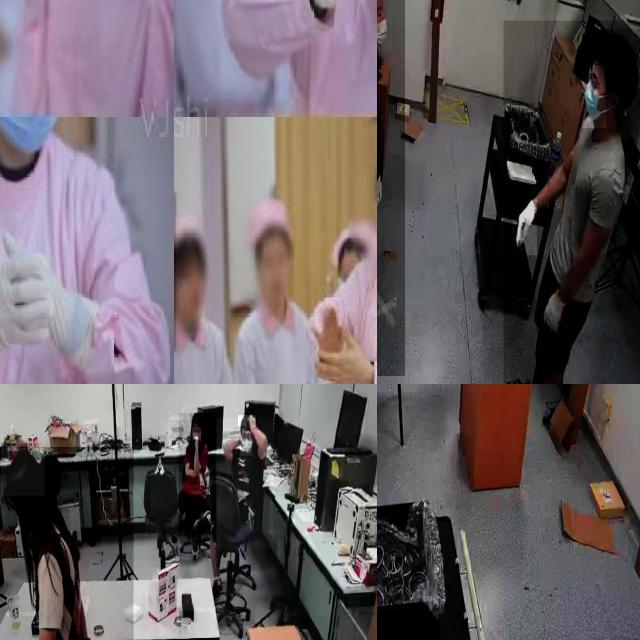face_mask: (582, 65, 606, 128), (377, 9, 392, 51), (240, 427, 252, 456)
face_nomask: (253, 236, 301, 307), (178, 262, 206, 310), (192, 427, 202, 441)
hand_glove: (0, 231, 54, 348), (513, 192, 537, 255), (542, 283, 571, 333)
hand_noglove: (314, 337, 371, 384), (307, 304, 344, 353), (246, 413, 258, 432), (193, 432, 199, 448), (198, 473, 204, 486)
head_nohelmet: (1, 448, 45, 497), (589, 28, 640, 62), (238, 415, 256, 427), (190, 412, 204, 424)
person: (503, 20, 640, 384), (0, 447, 133, 640), (241, 200, 327, 384), (316, 136, 377, 384), (173, 216, 239, 384), (377, 0, 405, 377), (216, 417, 274, 551), (179, 413, 217, 544)
